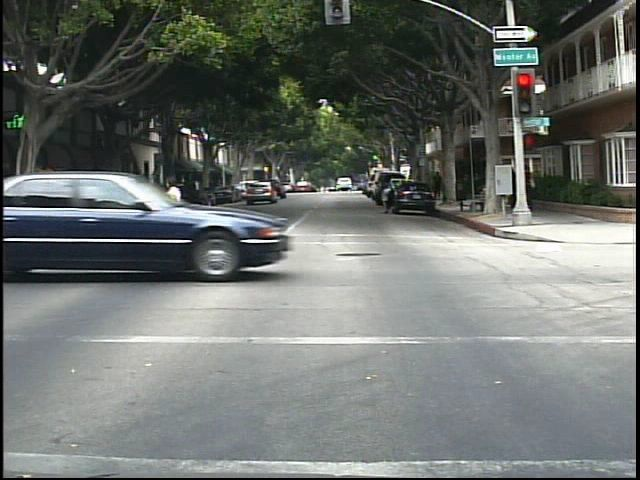person: (373, 172, 398, 216), (164, 172, 193, 206), (433, 169, 447, 200)
